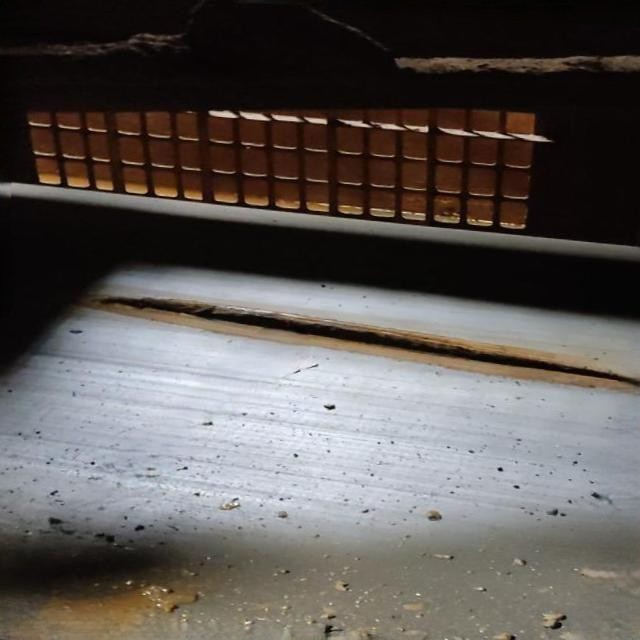Tear: (77, 283, 640, 397)
